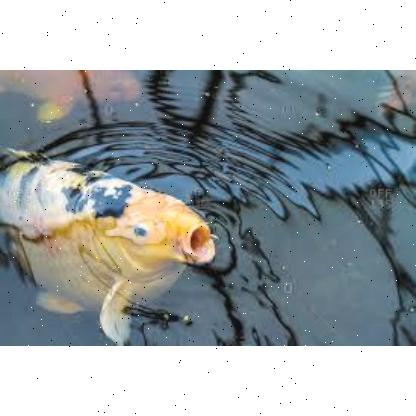ikan-mas: (0, 145, 216, 326)
